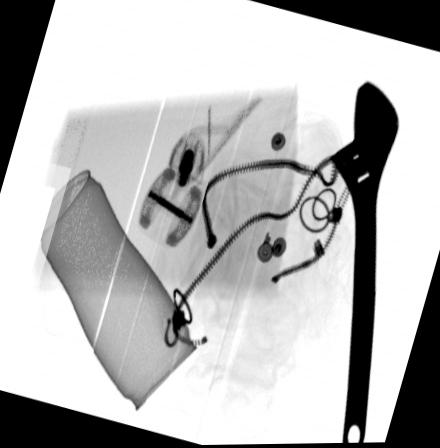Wrench: (327, 79, 400, 444)
